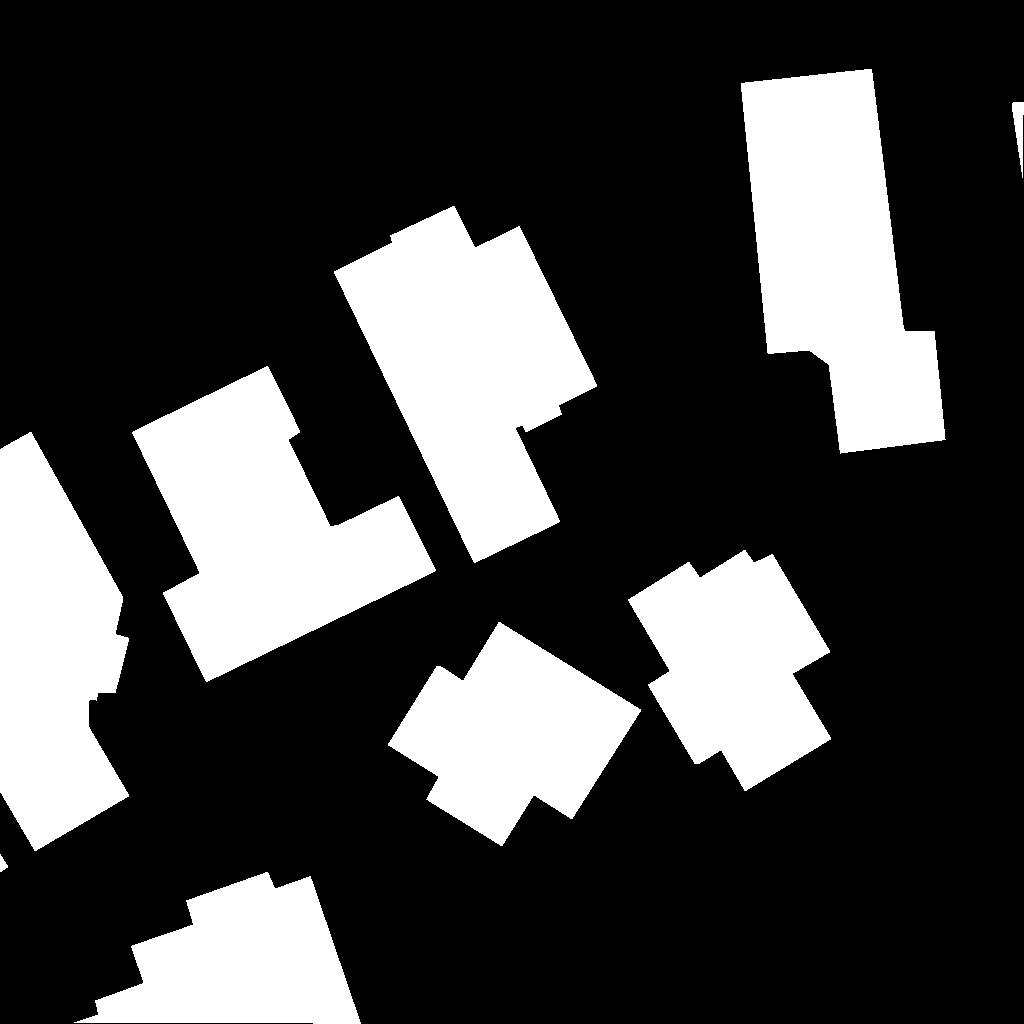building: (132, 366, 437, 683), (334, 206, 598, 564), (741, 69, 946, 454), (388, 622, 642, 847), (0, 432, 130, 852), (628, 550, 832, 792), (73, 872, 362, 1024), (1012, 102, 1024, 182), (0, 854, 9, 873)
